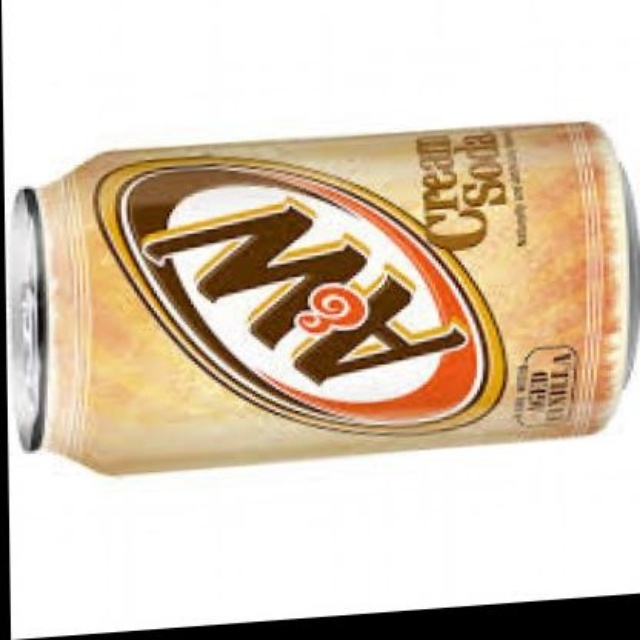trash: (8, 123, 638, 472)
